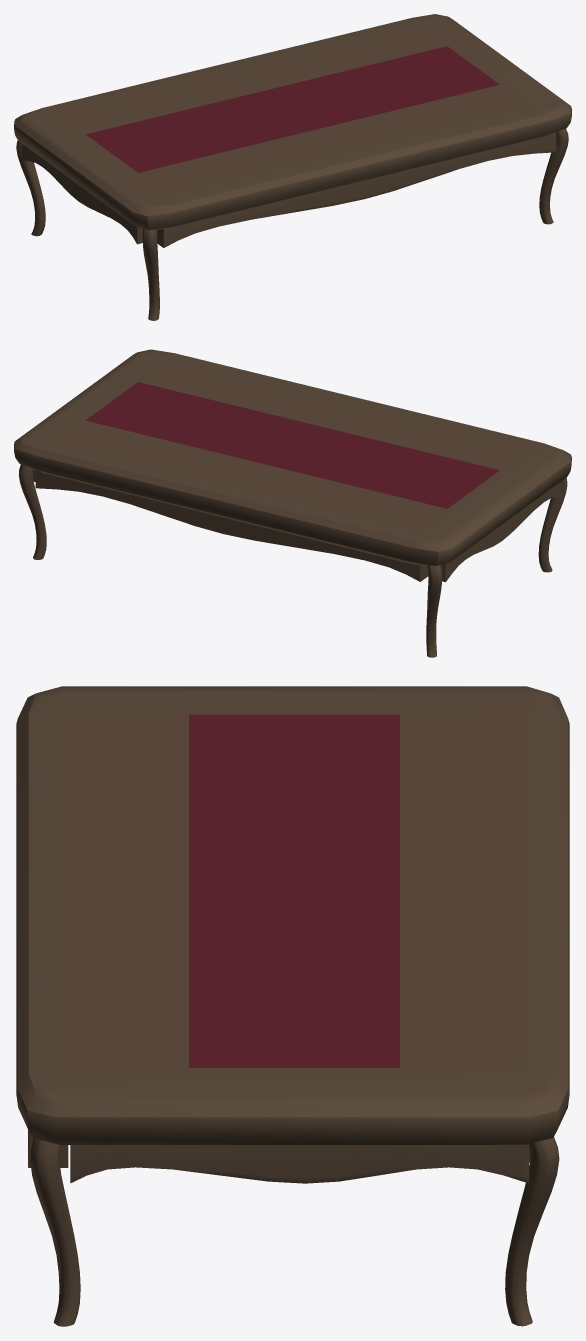
Rendered from OldTable.fbx.
3 views of the same model, one above another, from view 1: azimuth 30°, elevation 25°; view 2: azimuth 150°, elevation 25°; view 3: azimuth 270°, elevation 25° (orthographic). The views are drawn at different scales.
Visible parts, largest first — view 1: OldTable; view 2: OldTable; view 3: OldTable.
Part boxes in pixels (x1,y1,x2,y2): OldTable: (14, 14, 571, 320); OldTable: (14, 349, 571, 657); OldTable: (16, 686, 569, 1326).
Bounding box in the file's own units: 308 × 79.93 × 168.
